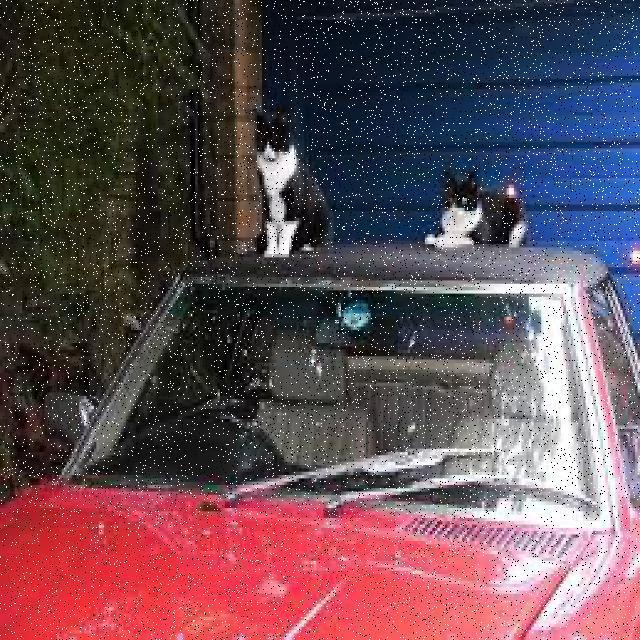Front-Windscreen-Damage: (92, 257, 610, 541)
